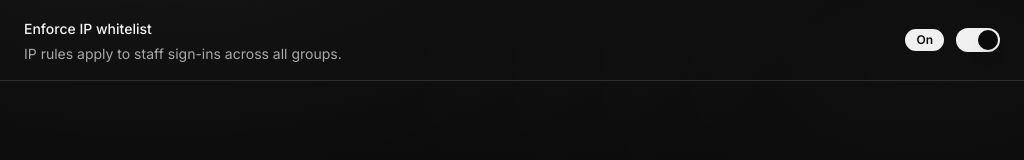
Test: persists disabling and re-enabling without touching existing rules
The width and height of the screenshot is (1024, 160).
Later steps or results of the test are not shown.
Click the switch: [978, 40] box left=956, top=28, right=1000, bottom=52
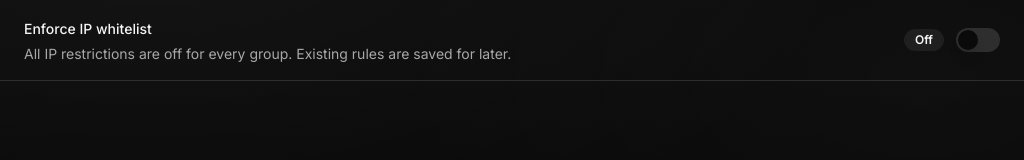
Check: the text "All IP restrictions are off for every group" is shown, box left=24, top=45, right=511, bottom=62
